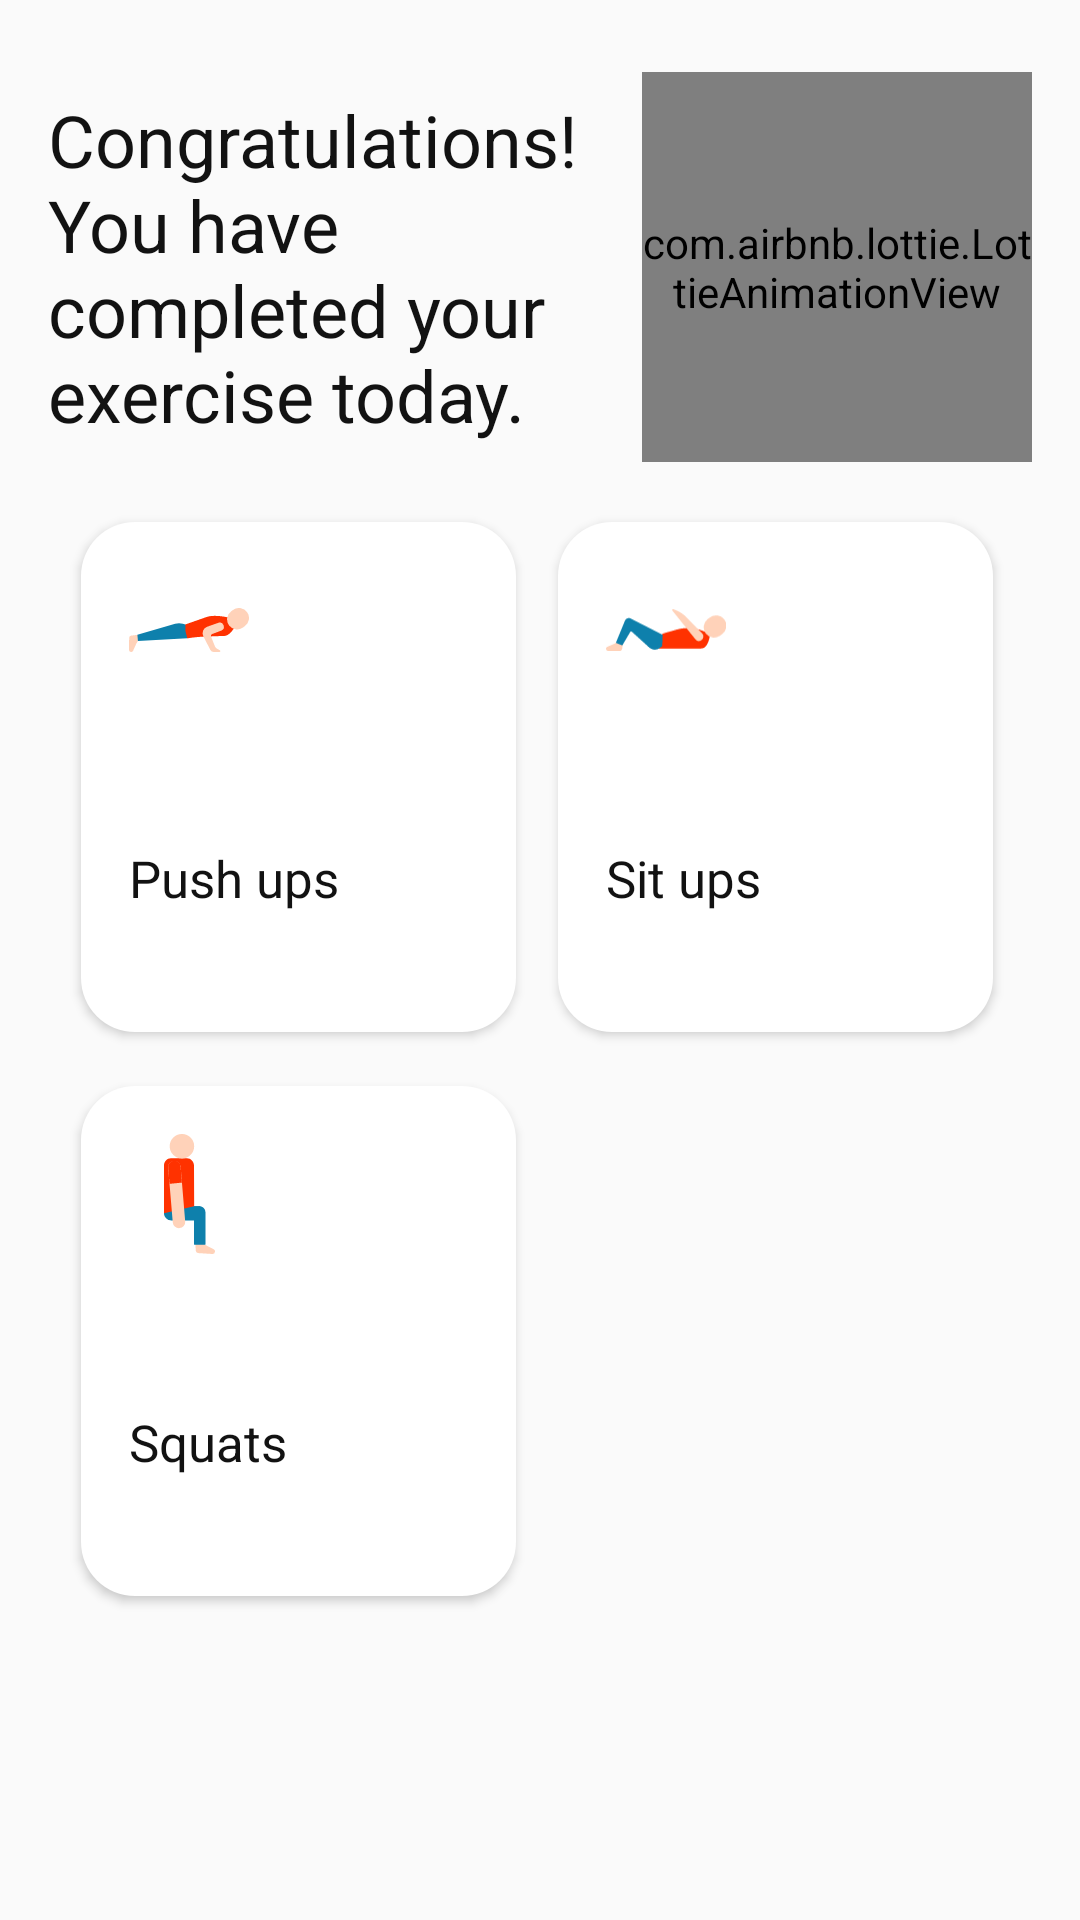

Point at icon controls on the screen. Image size 1080px×1920px, points as (x,y).
push ups: (189,630)
sit: (666,630)
squat: (189,1194)
